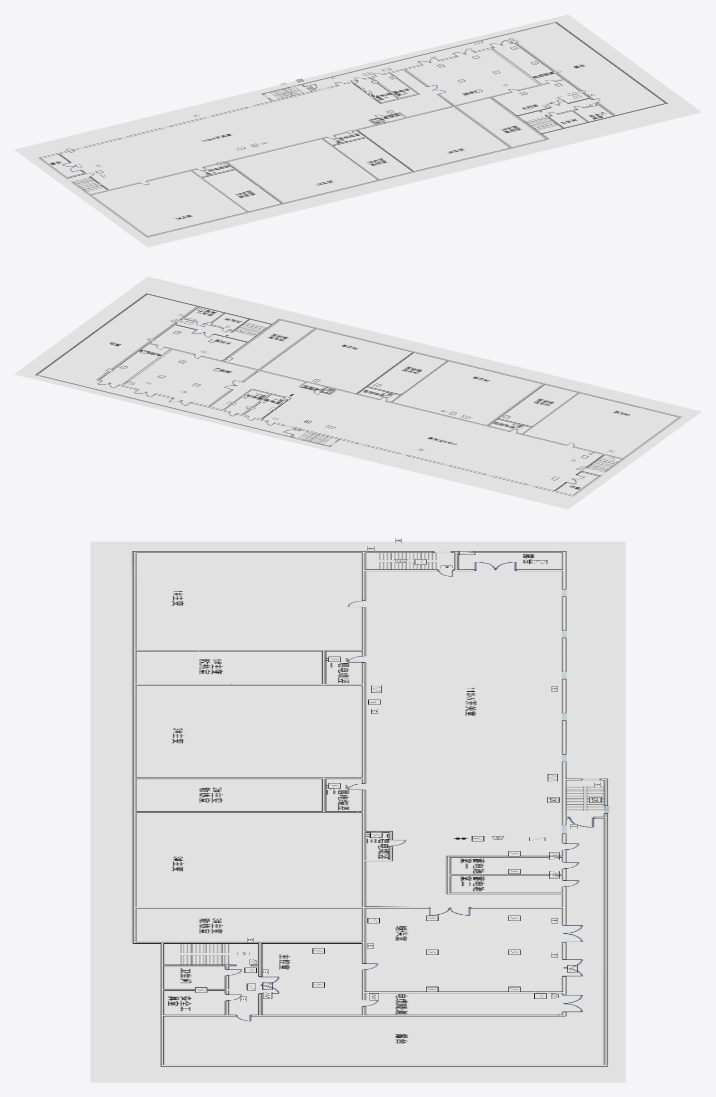
3 renders of one model, top to bottom at view 1: azimuth 30°, elevation 25°; view 2: azimuth 150°, elevation 25°; view 3: azimuth 270°, elevation 25°, orthographic. The views are drawn at different scales.
Visible parts, largest first — view 1: NC_RM_Floor_主控楼二层; view 2: NC_RM_Floor_主控楼二层; view 3: NC_RM_Floor_主控楼二层.
Boxes of the visible parts, x1,y1,x2,y2 form: NC_RM_Floor_主控楼二层: [14, 14, 701, 247]; NC_RM_Floor_主控楼二层: [14, 276, 701, 509]; NC_RM_Floor_主控楼二层: [90, 541, 625, 1082].
Size of the model in its own units: 61420 by 708 by 25673.
Materials: 3 (3 with a texture image).
